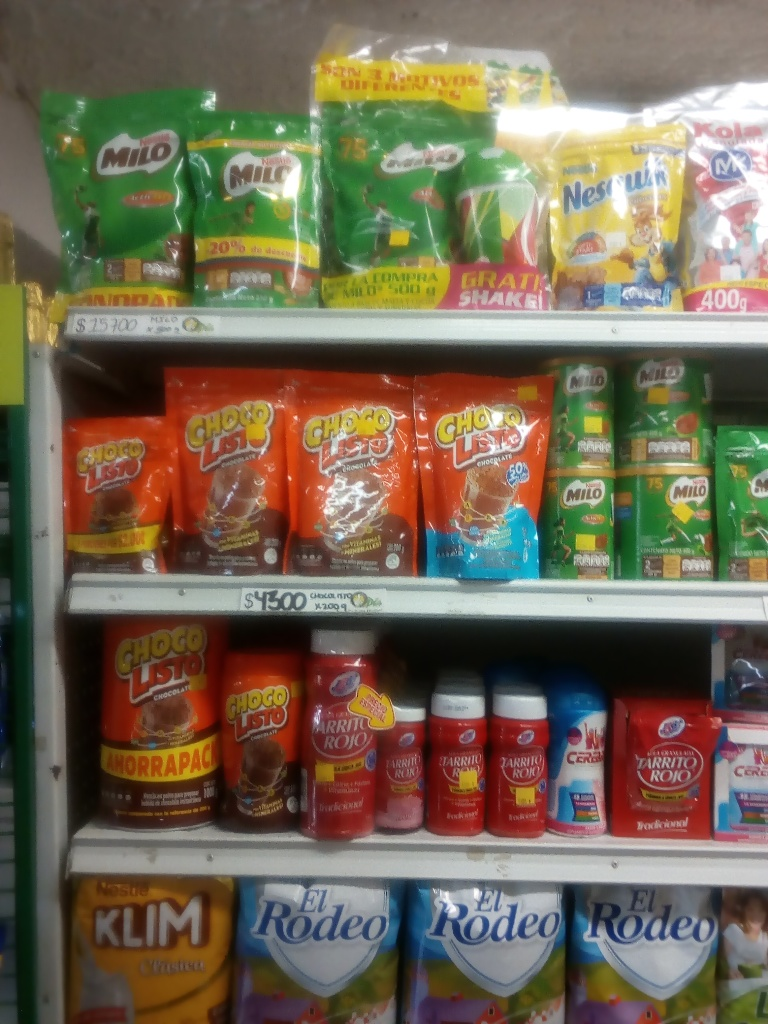COL0170103TRR00100: (103, 611, 216, 835)
COL0170104DYP20000: (409, 372, 553, 583)
COL0170203LAT20000: (546, 355, 611, 473)
COL0170203LAT40000: (611, 466, 718, 580)
COL0170303DYP20000: (545, 130, 688, 312)
